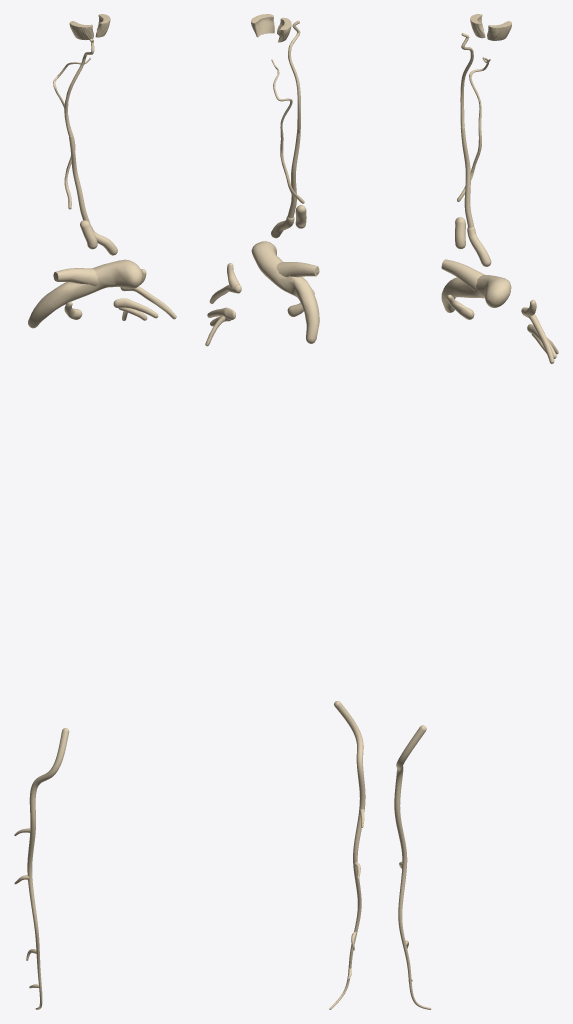
Rendered from male-source43-recoveries.glb.
3 renders of one model, left to right at view 1: azimuth 30°, elevation 25°; view 2: azimuth 150°, elevation 25°; view 3: azimuth 330°, elevation 25°, orthographic. The views are drawn at different scales.
Visible parts, largest first — view 1: BP3D43i_FJ6140, BP3D43i_FJ2203, BP3D43i_FJ6043, BP3D43i_FJ4986, BP3D43i_FJ5015, BP3D43i_FJ4993; view 2: BP3D43i_FJ6140, BP3D43i_FJ2203, BP3D43i_FJ6043, BP3D43i_FJ5015, BP3D43i_FJ4993, BP3D43i_FJ7504, BP3D43i_FJ4986; view 3: BP3D43i_FJ2203, BP3D43i_FJ6140, BP3D43i_FJ6043, BP3D43i_FJ4986, BP3D43i_FJ5015, BP3D43i_FJ4993, BP3D43i_FJ4715.
Part boxes in pixels (<box>): BP3D43i_FJ6140: <box>28,259,142,328</box>; BP3D43i_FJ2203: <box>27,728,69,1009</box>; BP3D43i_FJ6043: <box>53,268,98,286</box>; BP3D43i_FJ4986: <box>69,135,90,224</box>; BP3D43i_FJ5015: <box>53,57,90,209</box>; BP3D43i_FJ4993: <box>64,39,94,136</box>; BP3D43i_FJ6140: <box>251,241,319,343</box>; BP3D43i_FJ2203: <box>329,701,365,1009</box>; BP3D43i_FJ6043: <box>276,262,319,277</box>; BP3D43i_FJ5015: <box>271,59,304,203</box>; BP3D43i_FJ4993: <box>288,20,300,133</box>; BP3D43i_FJ7504: <box>251,14,274,37</box>; BP3D43i_FJ4986: <box>288,133,300,218</box>; BP3D43i_FJ2203: <box>394,725,431,1009</box>; BP3D43i_FJ6140: <box>441,275,511,312</box>; BP3D43i_FJ6043: <box>441,259,484,291</box>; BP3D43i_FJ4986: <box>460,127,473,227</box>; BP3D43i_FJ5015: <box>457,57,490,201</box>; BP3D43i_FJ4993: <box>460,33,473,127</box>; BP3D43i_FJ4715: <box>467,227,491,266</box>.
Bounding box in the file's own units: 0.1748 × 1.03 × 0.0839.
